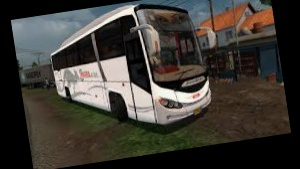bus: (46, 0, 214, 141)
